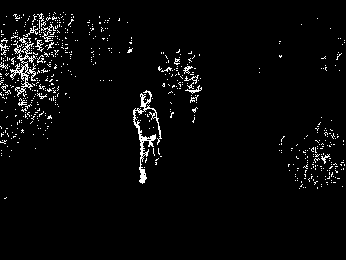person: (130, 87, 164, 186)
